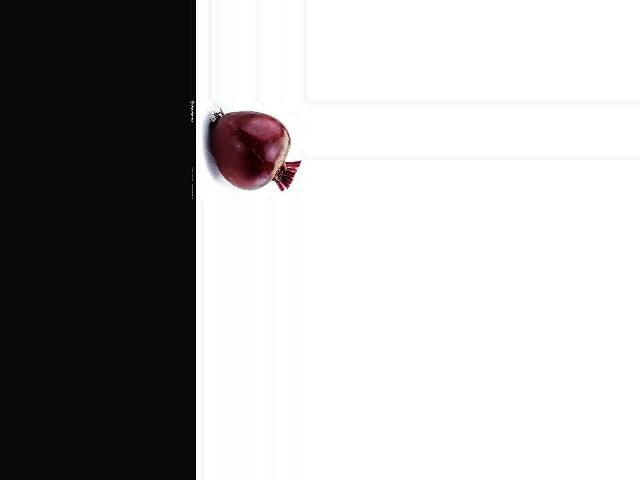beet: (211, 111, 300, 191)
